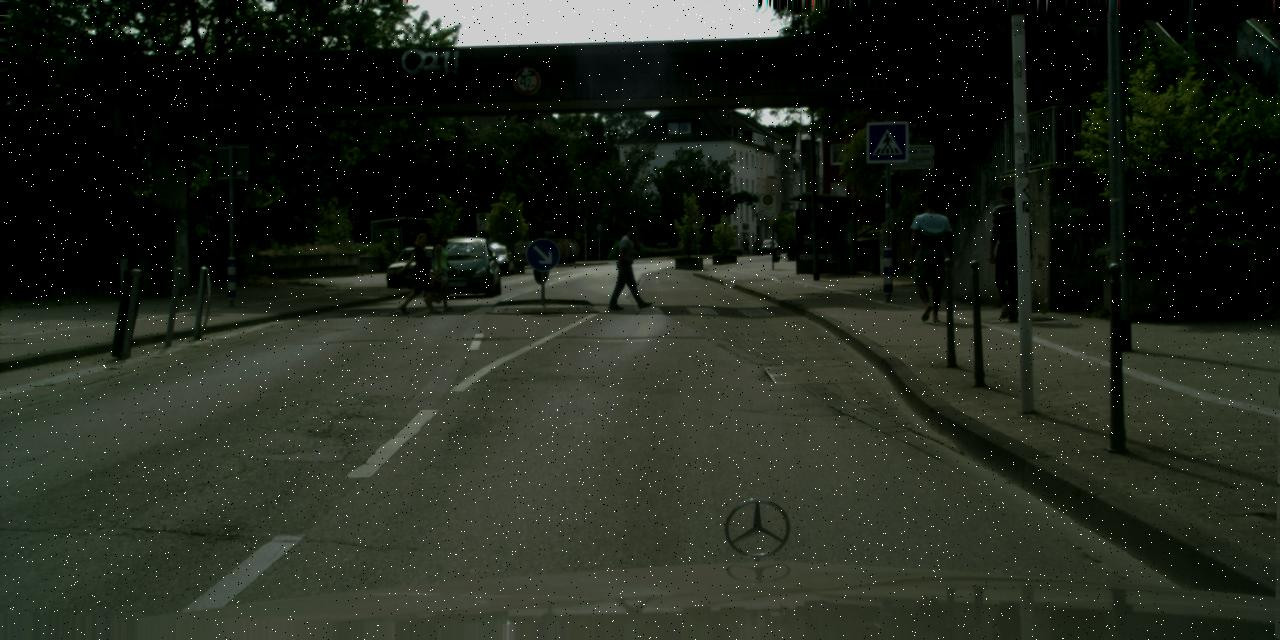ped: (982, 185, 1036, 318), (906, 197, 956, 318), (614, 225, 649, 309), (403, 232, 436, 312), (424, 232, 455, 307), (744, 238, 750, 254), (754, 238, 758, 251)
